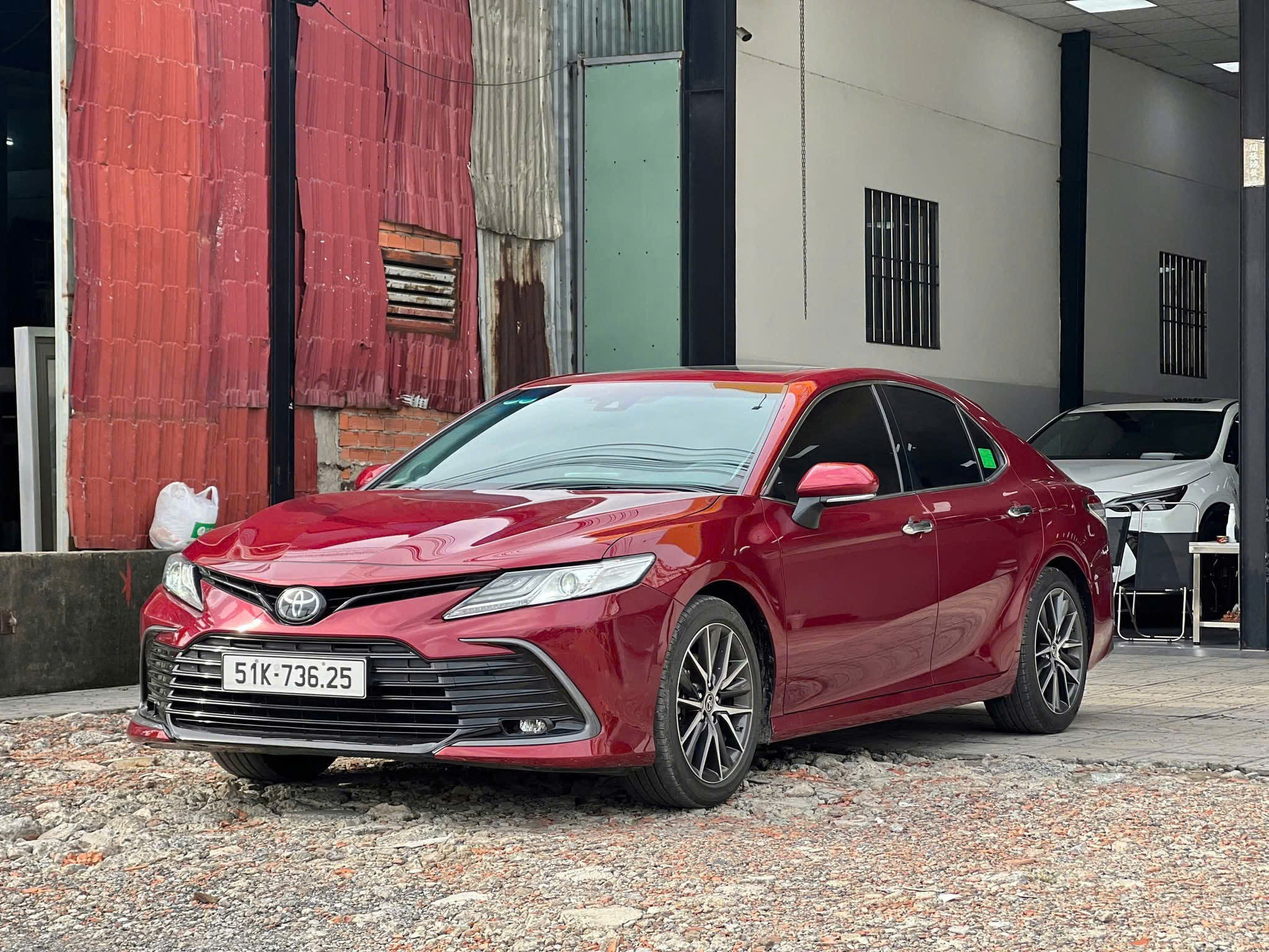Bien-so: (221, 655, 370, 703)
